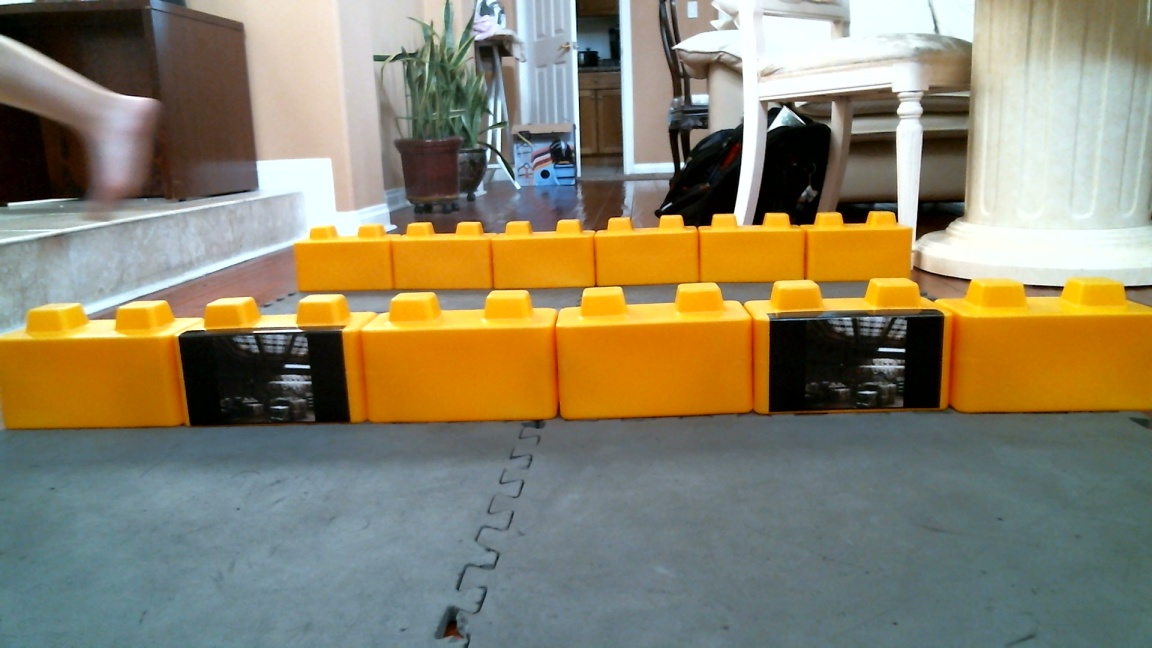skystone: (752, 279, 959, 416), (182, 294, 368, 423)
stone: (951, 277, 1152, 411), (557, 284, 755, 419), (363, 291, 557, 422), (1, 300, 187, 428), (696, 212, 808, 283), (593, 214, 703, 285), (806, 210, 916, 281), (394, 222, 498, 291), (494, 219, 597, 288), (296, 223, 396, 294)
